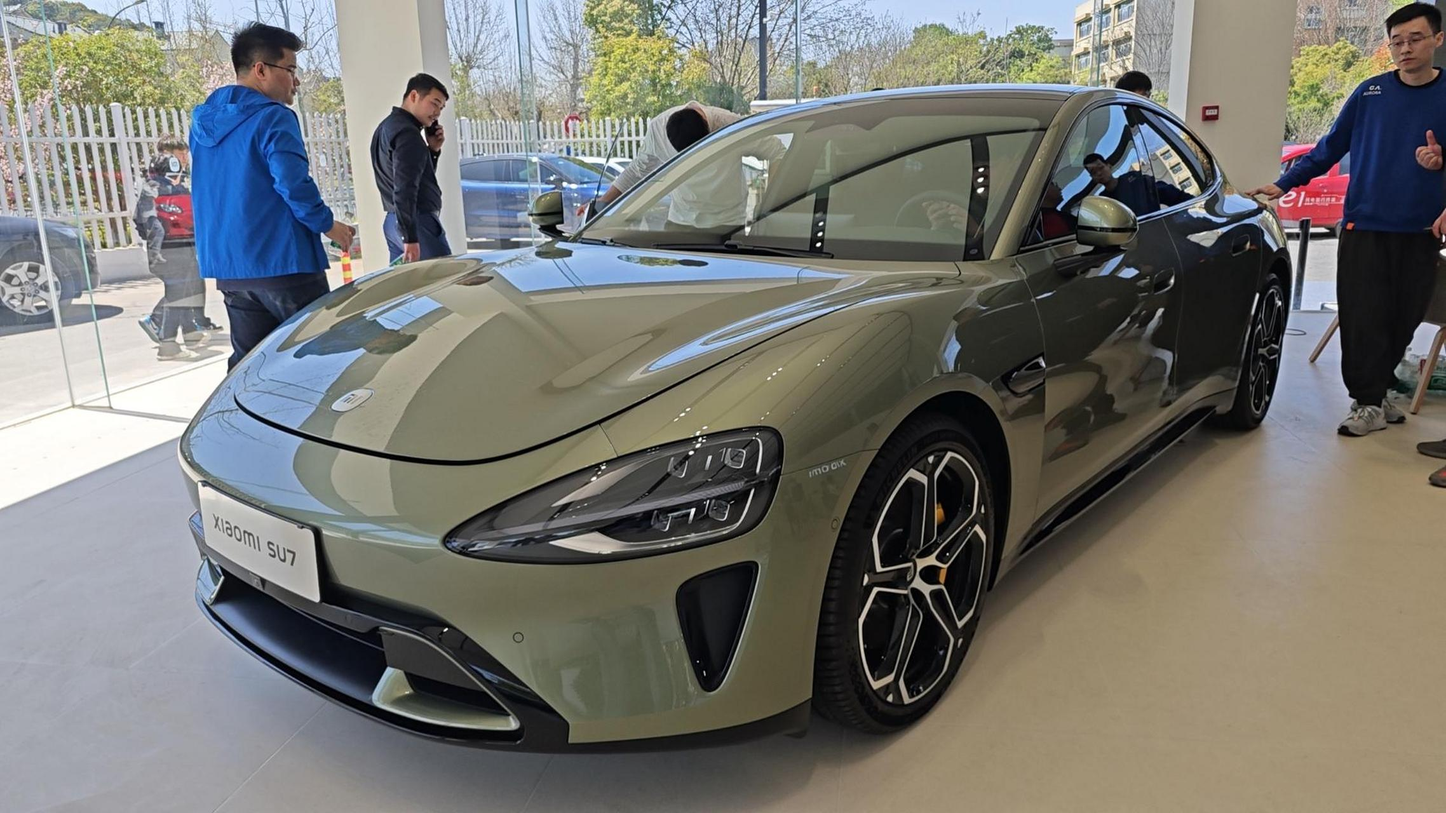su7: (198, 84, 1292, 743)
